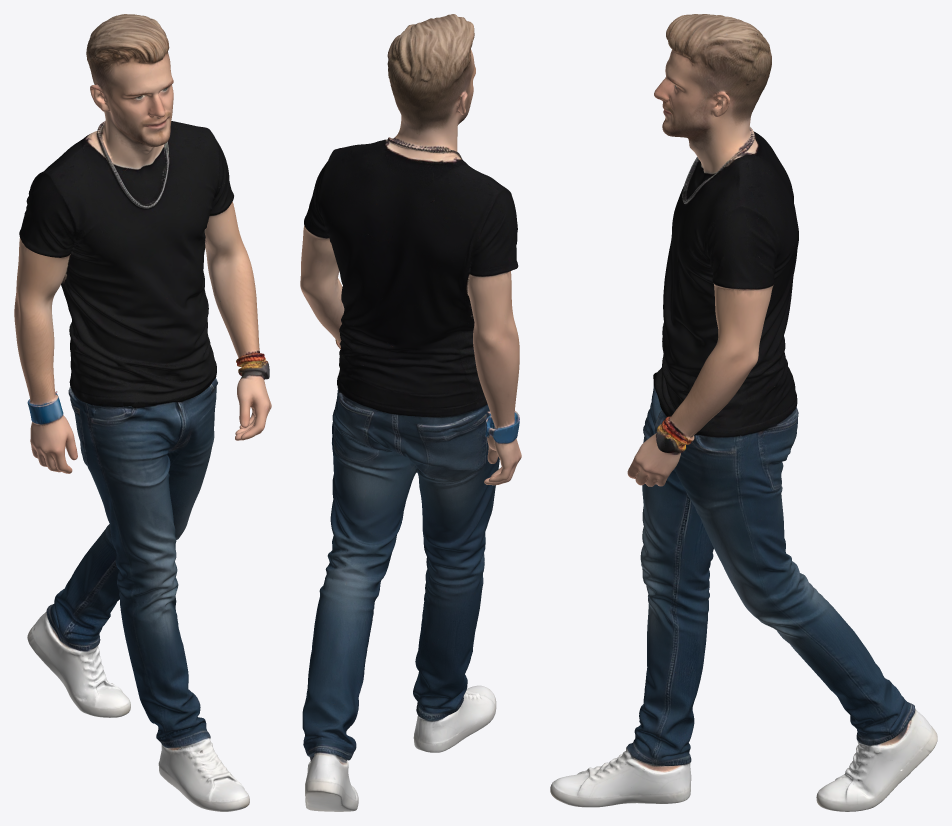
Rendered from casual_stride.glb.
3 views of the same model, side by side, from view 1: azimuth 30°, elevation 25°; view 2: azimuth 150°, elevation 25°; view 3: azimuth 270°, elevation 25° (orthographic). The views are drawn at different scales.
Parts seen in each view (by area): view 1: Object_7, Object_5, Object_6; view 2: Object_6, Object_5, Object_7; view 3: Object_6, Object_5, Object_7.
Part boxes in pixels (x1,y1,x2,y2): Object_7: (48,20,269,789); Object_5: (16,14,271,811); Object_6: (14,15,257,717); Object_6: (302,18,521,811); Object_5: (300,17,519,735); Object_7: (331,14,499,752); Object_6: (677,14,937,811); Object_5: (550,18,816,807); Object_7: (630,14,718,803).
Bounding box in the file's own units: 0.5869 × 1.9 × 0.8705.
Materials: 1 (1 with a texture image).
